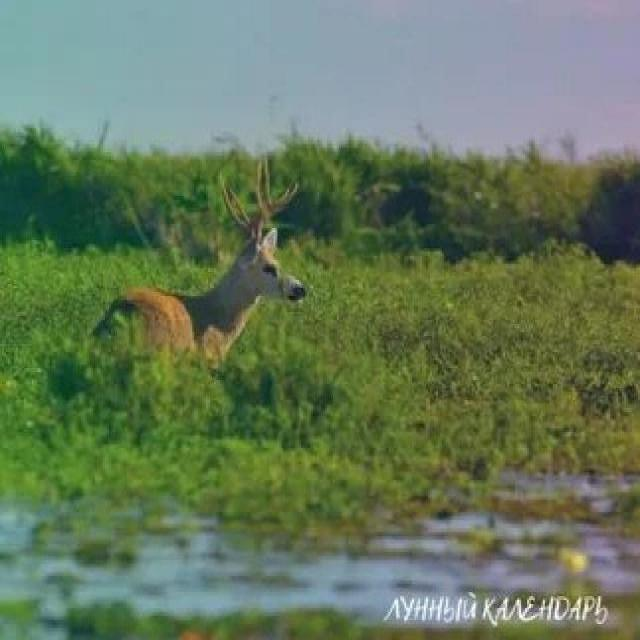deer: (78, 172, 308, 416)
